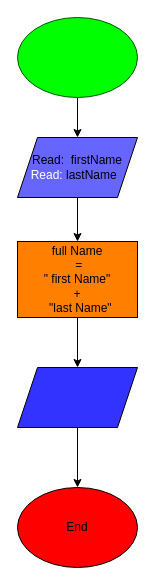
Some shapes in this 155 by 585 pixel diagram are drawn without their labels. The box of each missing label's shape, as (x1, y1, x2, y2) in pixels:
Print: full Name: (16, 366, 138, 428)
Start: (16, 16, 138, 98)
